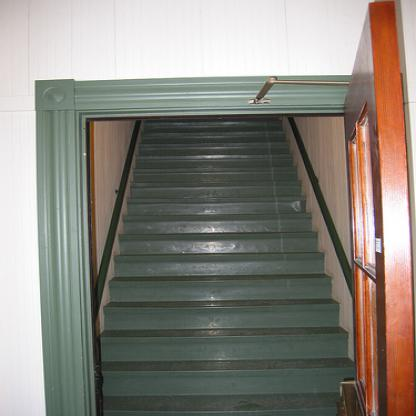stairs: (131, 201, 312, 410)
